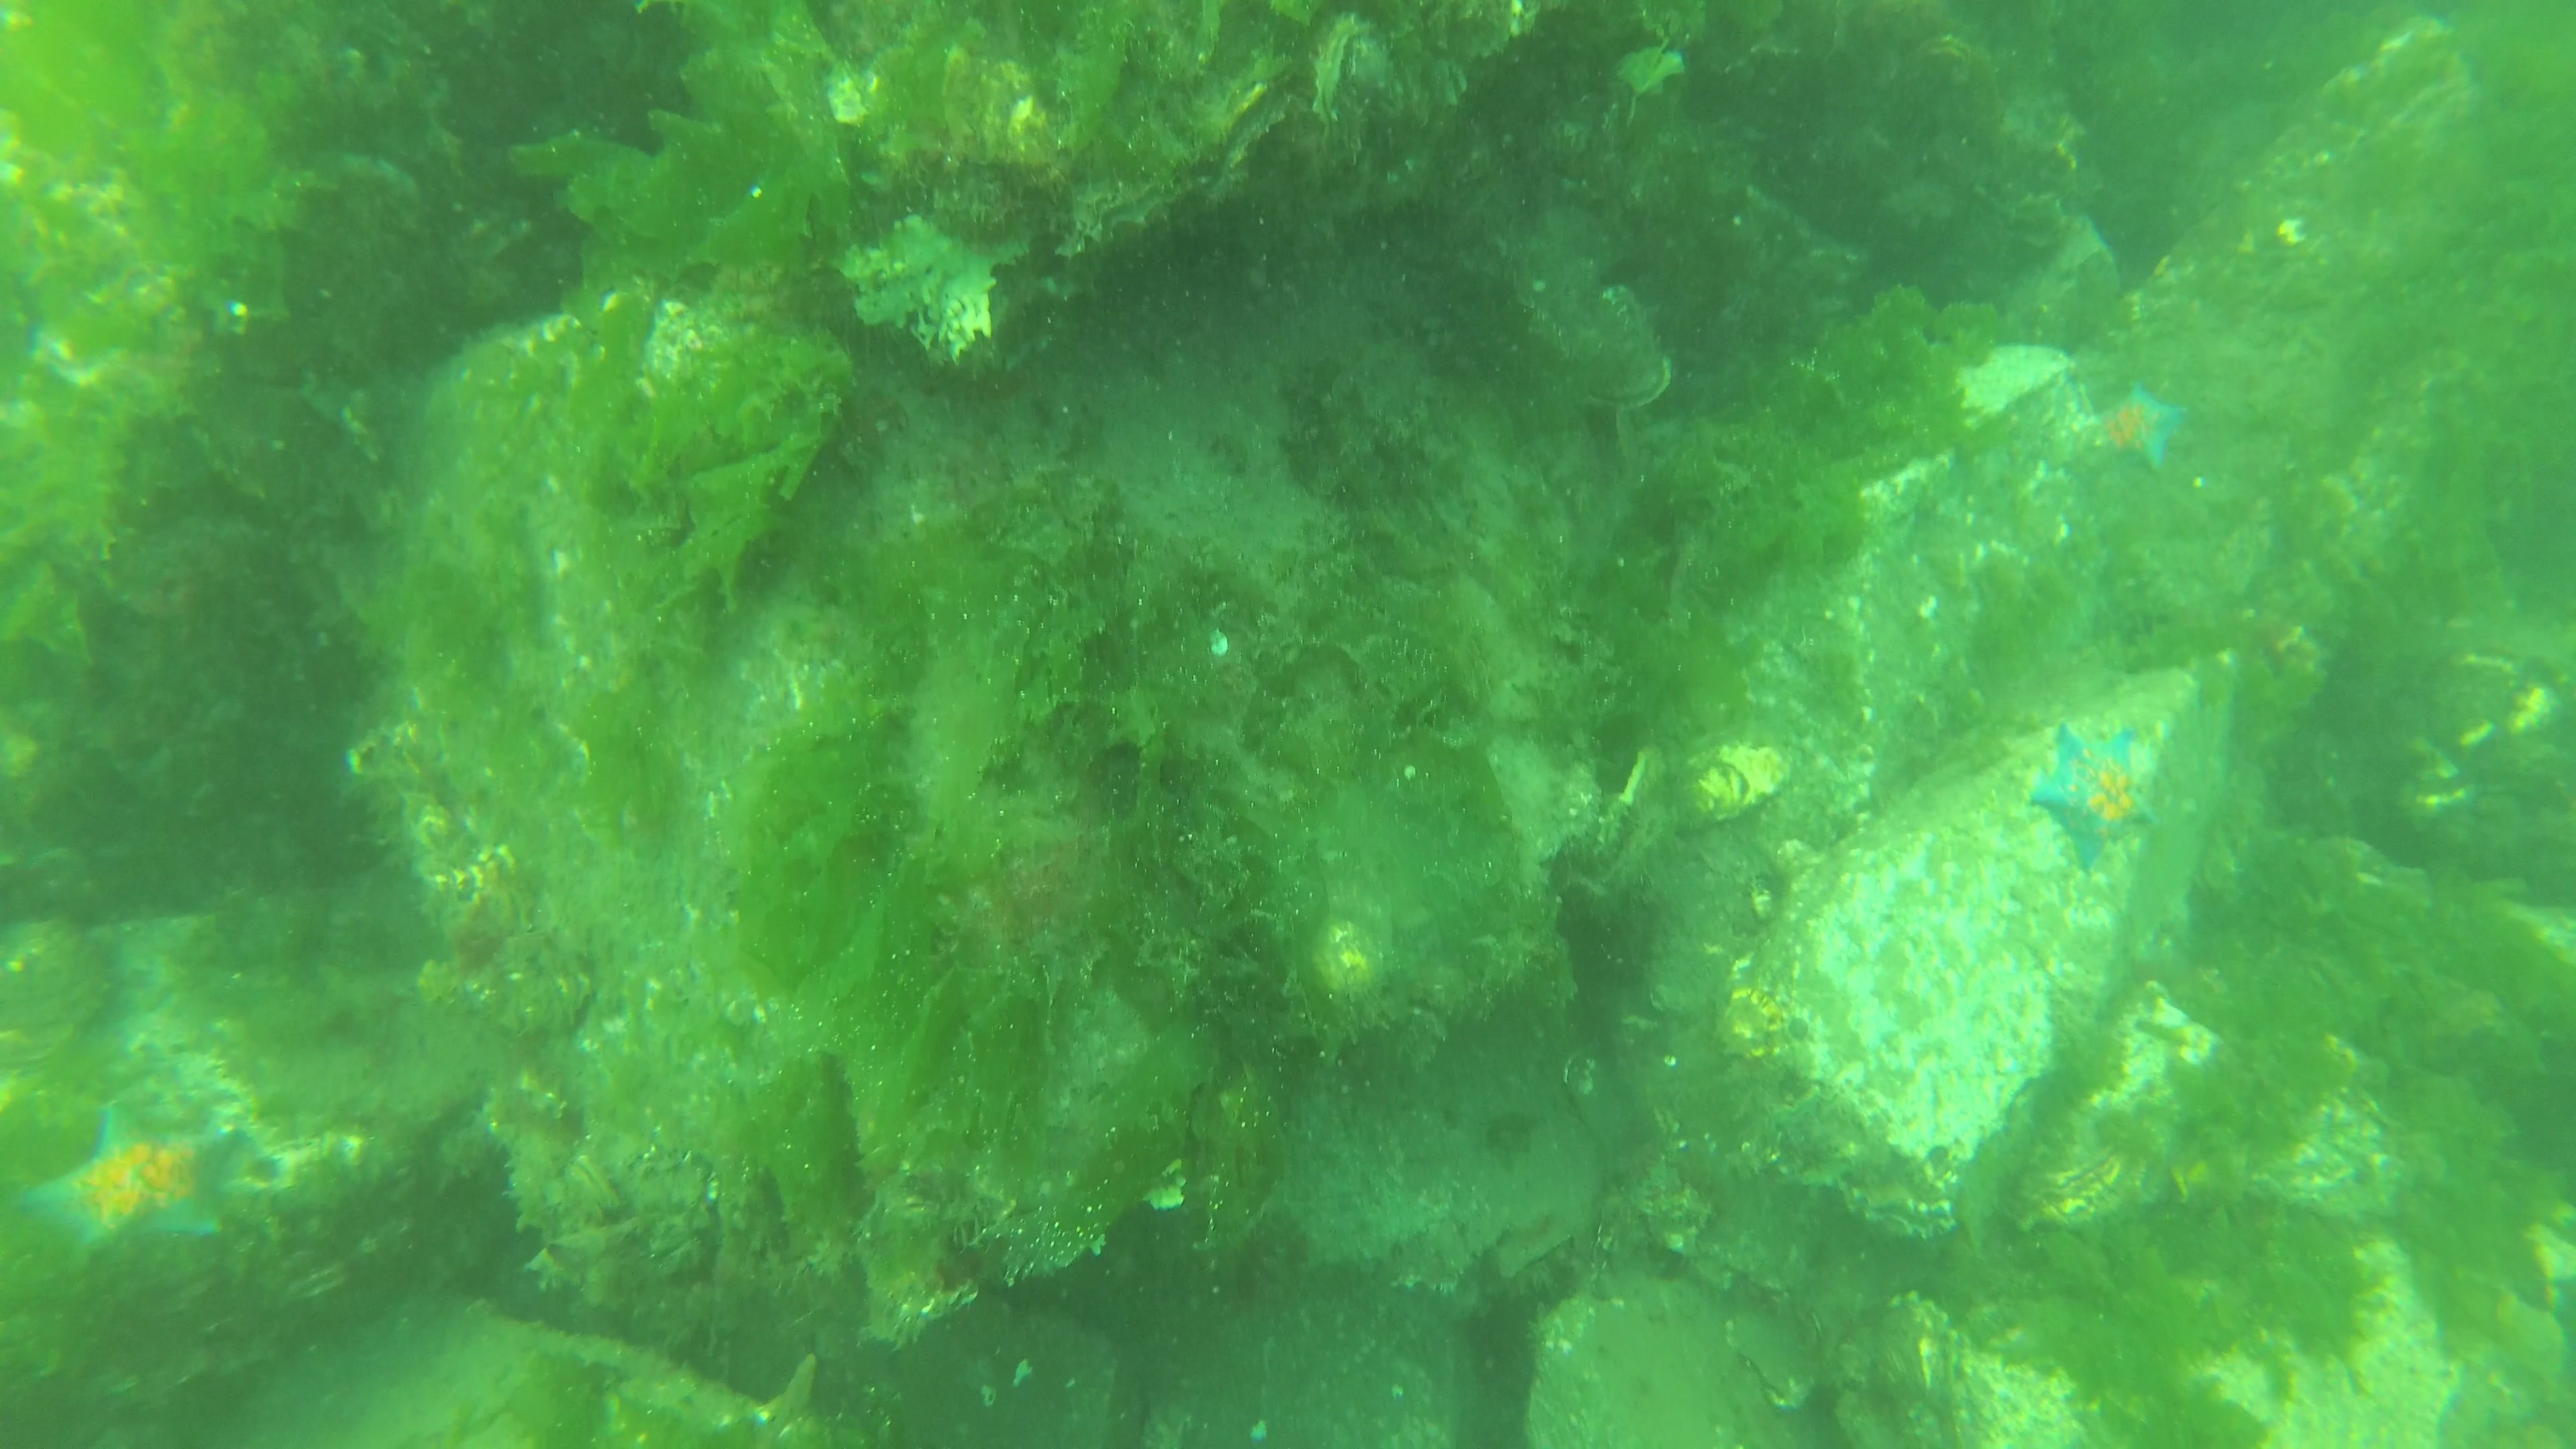starfish: (16, 1092, 246, 1270), (2026, 718, 2160, 878), (2091, 380, 2190, 478)
